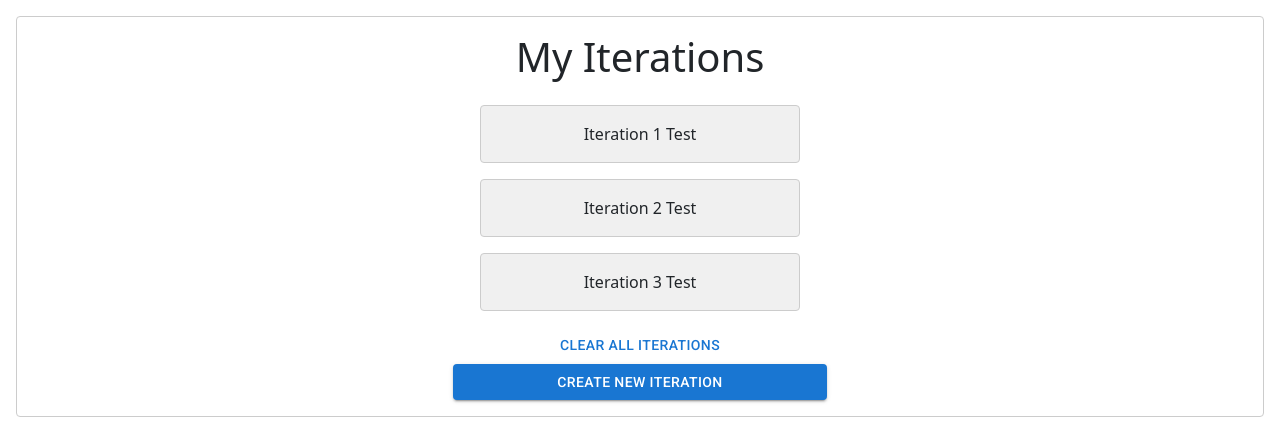
Scenario: DashboardView › clears all iterations when the clear all iterations button is clicked
Click the button "Clear All Iterations". click: (640, 345)
box: [453,327,827,364]
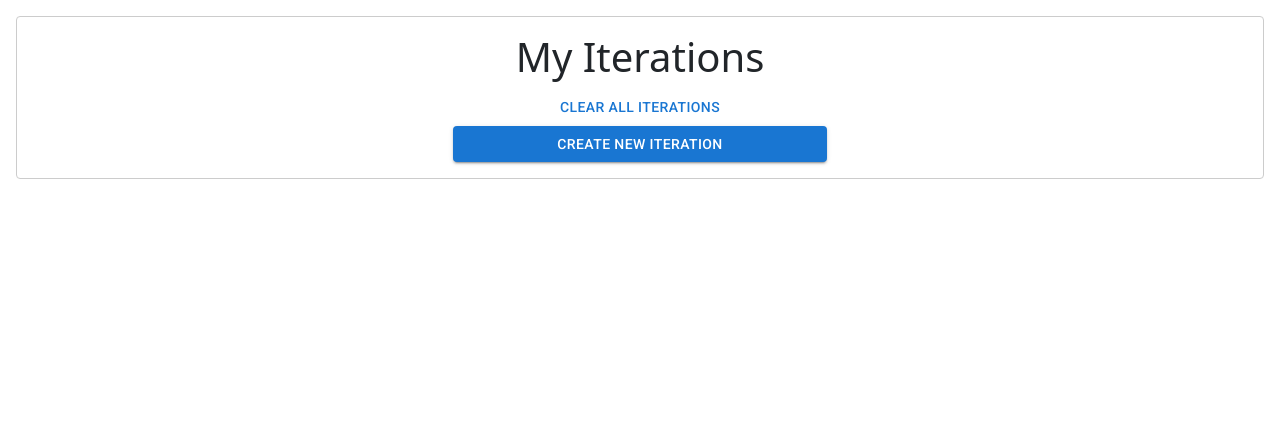
expect the text "Iteration 1 Test" is gone: met
expect the text "Iteration 2 Test" is gone: met
expect the text "Iteration 3 Test" is gone: met
